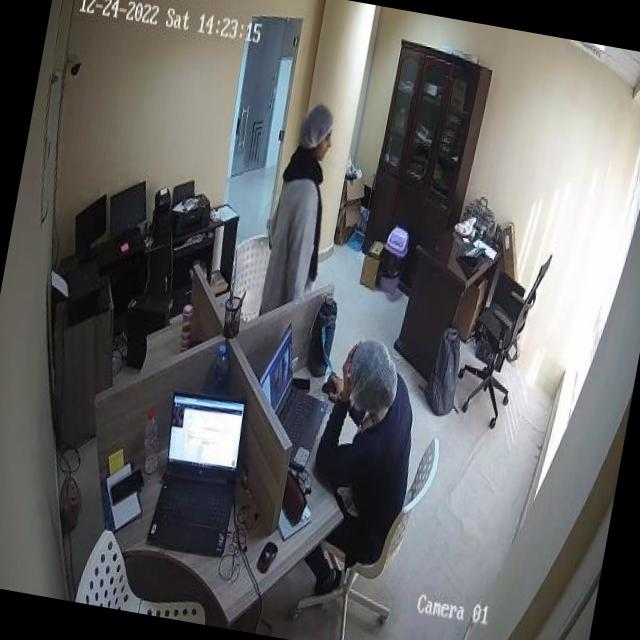hairnet: (343, 338, 404, 417), (296, 100, 334, 147)
